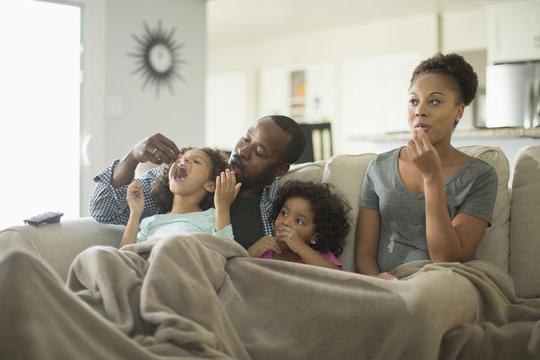blanket: (0, 232, 540, 360)
long sleeve shirt: (88, 148, 291, 266), (130, 207, 235, 252)
short sleeve shirt: (355, 144, 500, 278)
